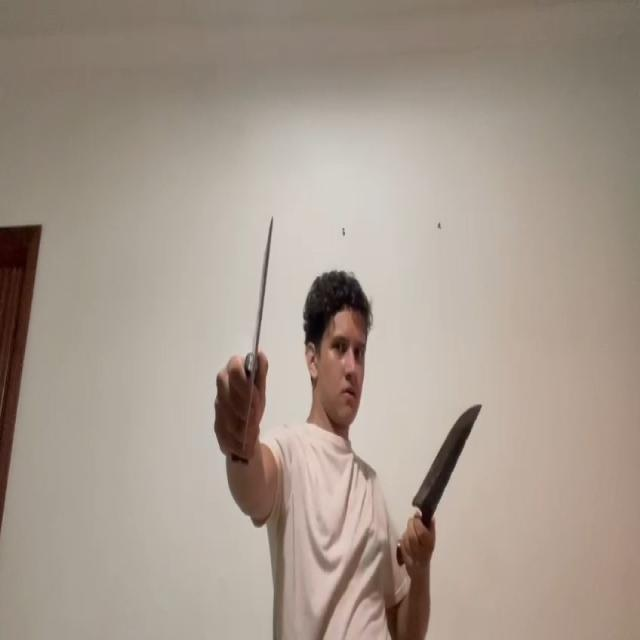knife: (240, 214, 275, 461), (410, 399, 482, 512)
